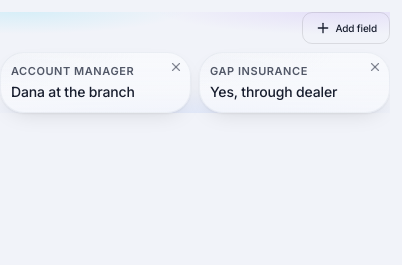
Test: AddFieldPanel › Add field → Field | Value | Add writes the field
Click the button with test id "add-field-button": [346, 28] box [302, 12, 390, 44]
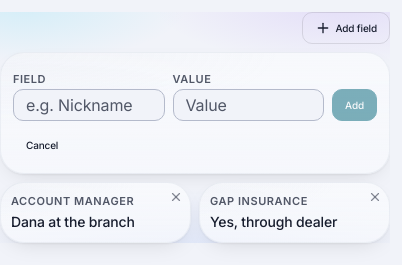
In the field with test id "add-field-key": [89, 105] box [13, 89, 164, 121], type "Loan officer"
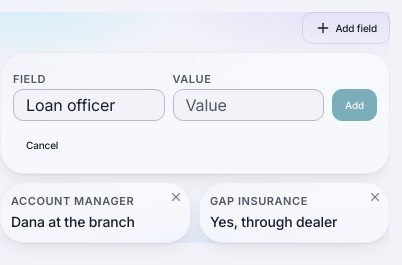
In the field with test id "add-field-value": [248, 105] box [172, 89, 324, 121], type "Sam Ortiz"
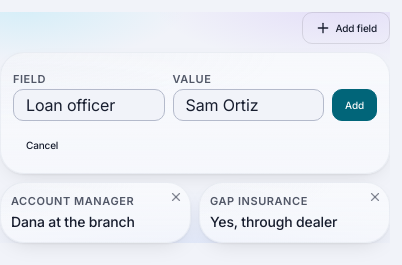
Click the button with test id "add-field-save": [355, 105] box [332, 89, 377, 121]
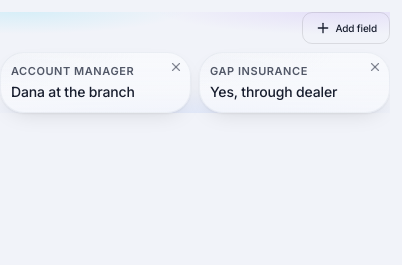
Check: the element with test id "add-field-form" is gone
